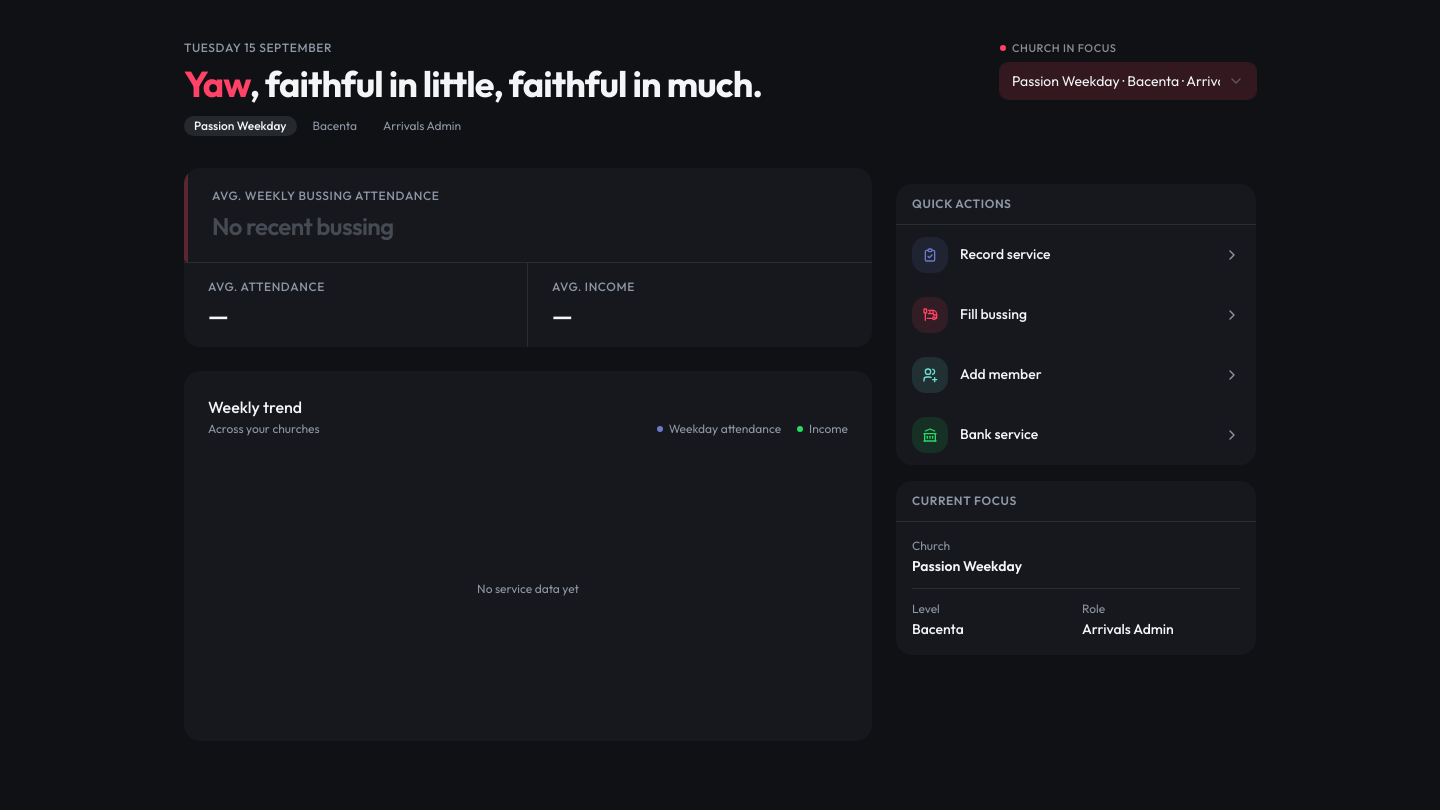
UserDashboard i18n › shows translated title+subtitle on the record-service dialog option cards for a Bacenta scope
Click the button "Record service".
click(930, 255)  # box [896,225,1256,285]
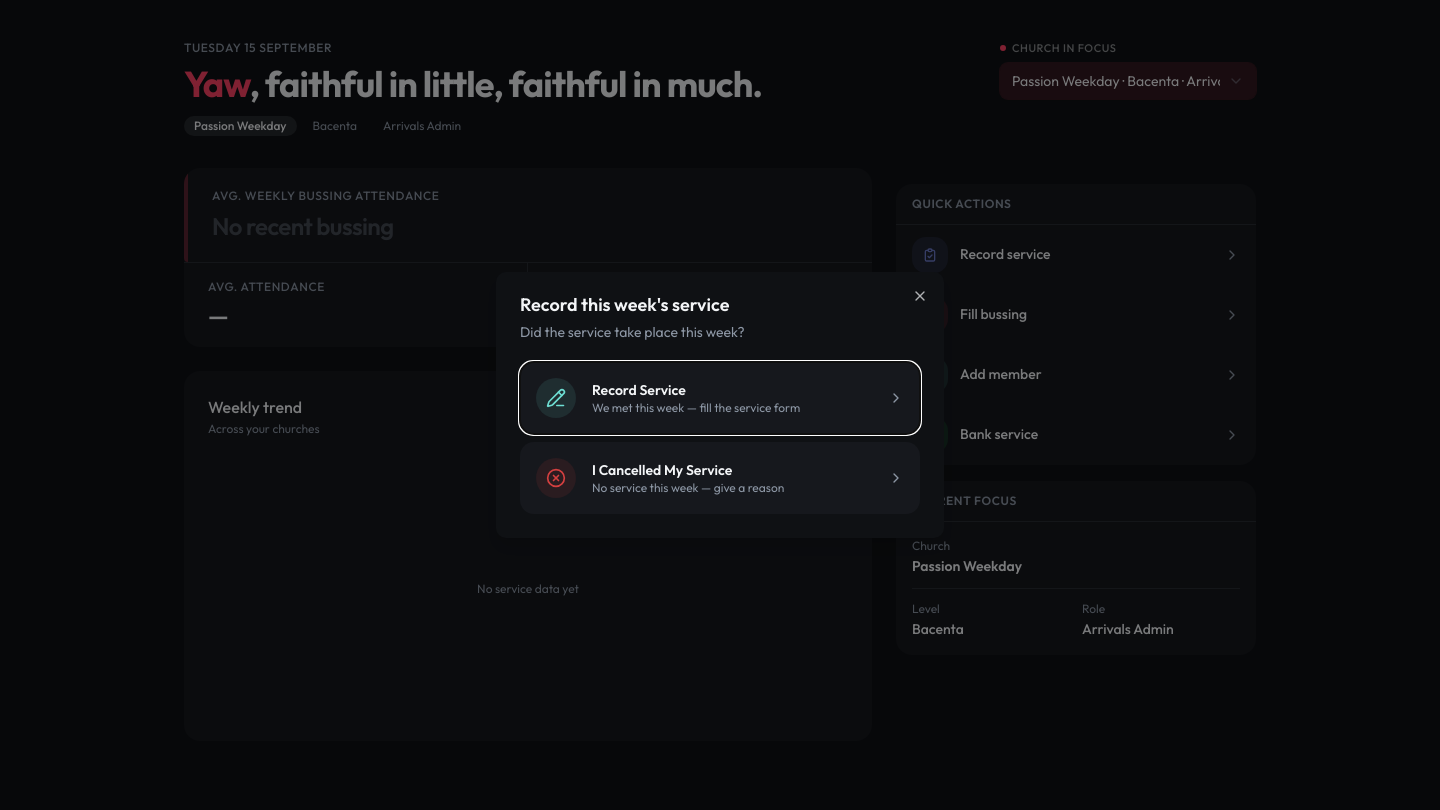
Now the heading "Record this week's service" is shown, box [520,293,729,316]
Now the text "Did the service take place this week?" is shown, box [520,323,745,341]
Now the text "Record Service" is shown, box [592,381,686,399]
